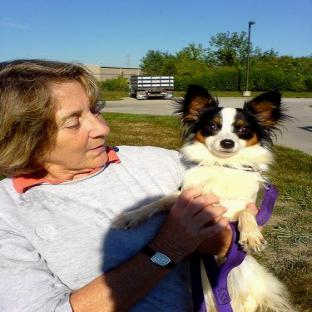Animal: (114, 85, 289, 253), (230, 254, 292, 311)
Human: (1, 59, 230, 311)
